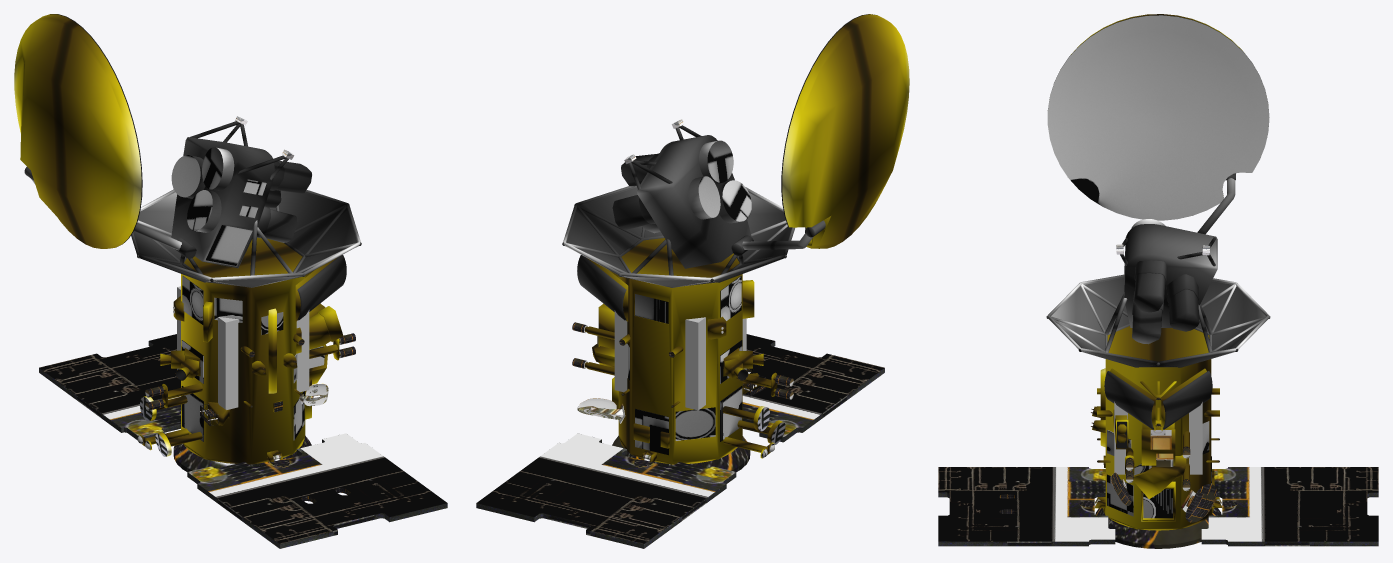
File: Sat_Aquarius.obj
3 views of the same model, side by side, from view 1: azimuth 30°, elevation 25°; view 2: azimuth 150°, elevation 25°; view 3: azimuth 270°, elevation 25° (orthographic). The views are drawn at different scales.
Parts seen in each view (by area): view 1: foil_gold, tex_02_001, foil_silver, AO_other_dep, tex_01, sin; view 2: foil_gold, tex_02_001, foil_silver, AO_other_dep, tex_01, sin; view 3: AO_dish_dep, tex_02_001, foil_silver, foil_gold, tex_01, AO_other_dep, sin.
Part boxes in pixels (x1=…): foil_gold: x1=14, y1=14, x2=343, y2=464; tex_02_001: x1=39, y1=334, x2=446, y2=543; foil_silver: x1=24, y1=121, x2=361, y2=320; AO_other_dep: x1=137, y1=147, x2=324, y2=449; tex_01: x1=39, y1=116, x2=447, y2=548; sin: x1=177, y1=286, x2=309, y2=409; foil_gold: x1=584, y1=14, x2=909, y2=464; tex_02_001: x1=477, y1=334, x2=884, y2=543; foil_silver: x1=562, y1=125, x2=825, y2=320; AO_other_dep: x1=628, y1=140, x2=774, y2=457; tex_01: x1=476, y1=119, x2=884, y2=548; sin: x1=614, y1=310, x2=746, y2=410; AO_dish_dep: x1=1047, y1=15, x2=1269, y2=220; tex_02_001: x1=938, y1=467, x2=1378, y2=541; foil_silver: x1=1046, y1=173, x2=1270, y2=429; foil_gold: x1=1071, y1=14, x2=1242, y2=530; tex_01: x1=938, y1=244, x2=1378, y2=548; AO_other_dep: x1=1107, y1=421, x2=1211, y2=518; sin: x1=1114, y1=401, x2=1202, y2=474.
Size of the model in its own units: 1.3 by 2 by 1.85.
Materials: 10 (9 with a texture image).
